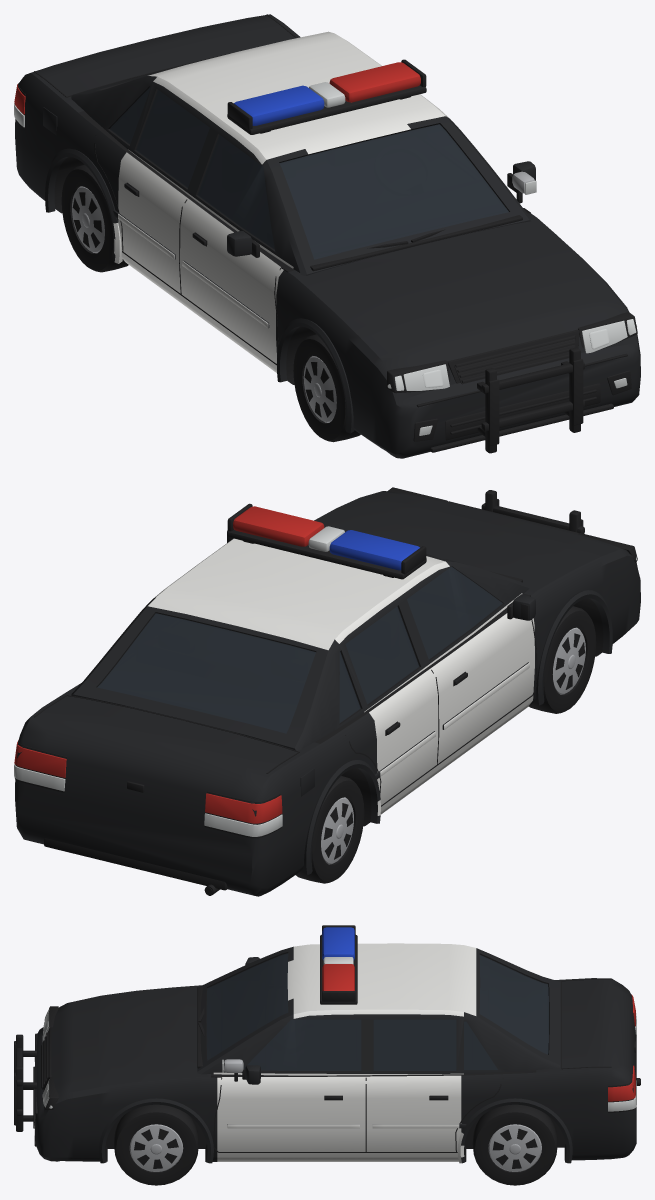
The model's file is PoliceCar.fbx.
3 renders of one model, top to bottom at view 1: azimuth 30°, elevation 25°; view 2: azimuth 150°, elevation 25°; view 3: azimuth 270°, elevation 25°, orthographic. The views are drawn at different scales.
Parts seen in each view (by area): view 1: PoliceCar_Mesh; view 2: PoliceCar_Mesh; view 3: PoliceCar_Mesh.
Part boxes in pixels (bbox=[...]): PoliceCar_Mesh: bbox=[14, 14, 640, 458]; PoliceCar_Mesh: bbox=[14, 487, 640, 896]; PoliceCar_Mesh: bbox=[14, 925, 640, 1185].
Size of the model in its own units: 2.17 by 1.6 by 5.01.
